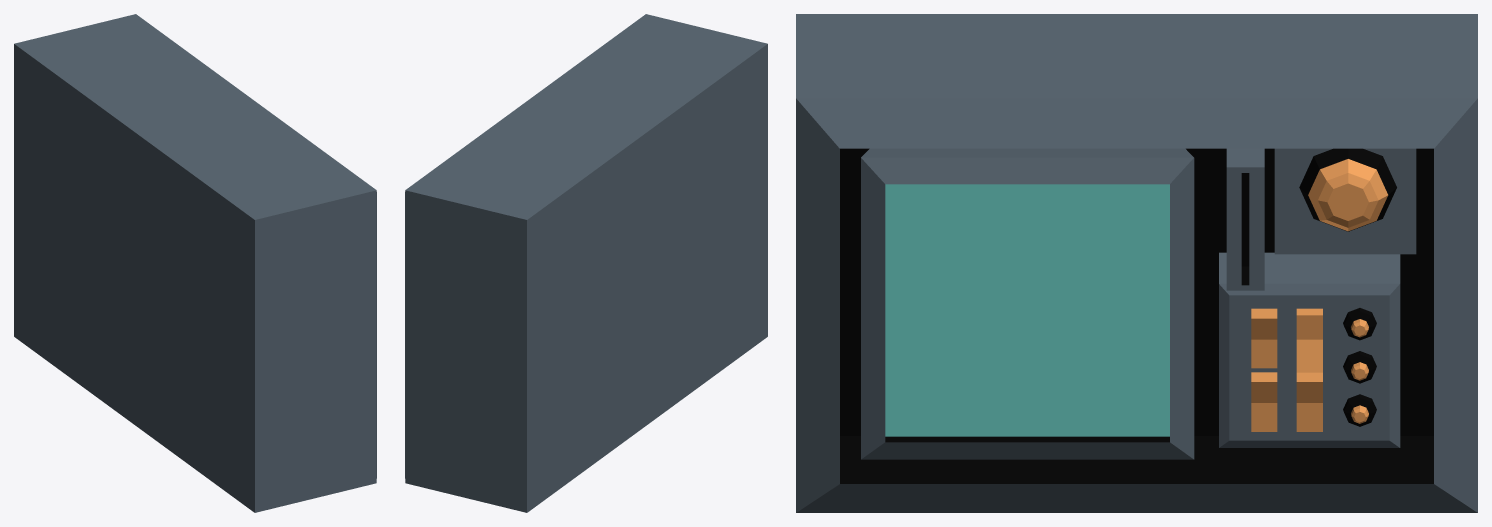
Rendered from controlpanel_2.fbx.
3 renders of one model, left to right at view 1: azimuth 30°, elevation 25°; view 2: azimuth 150°, elevation 25°; view 3: azimuth 270°, elevation 25°, orthographic. The views are drawn at different scales.
Parts seen in each view (by area): view 1: Cube.008; view 2: Cube.008; view 3: Cube.008.
Part boxes in pixels (x1,y1,x2,y2): Cube.008: (14, 14, 376, 512); Cube.008: (405, 14, 767, 512); Cube.008: (796, 14, 1477, 512).
Size of the model in its own units: 9.83 by 20 by 29.8.
